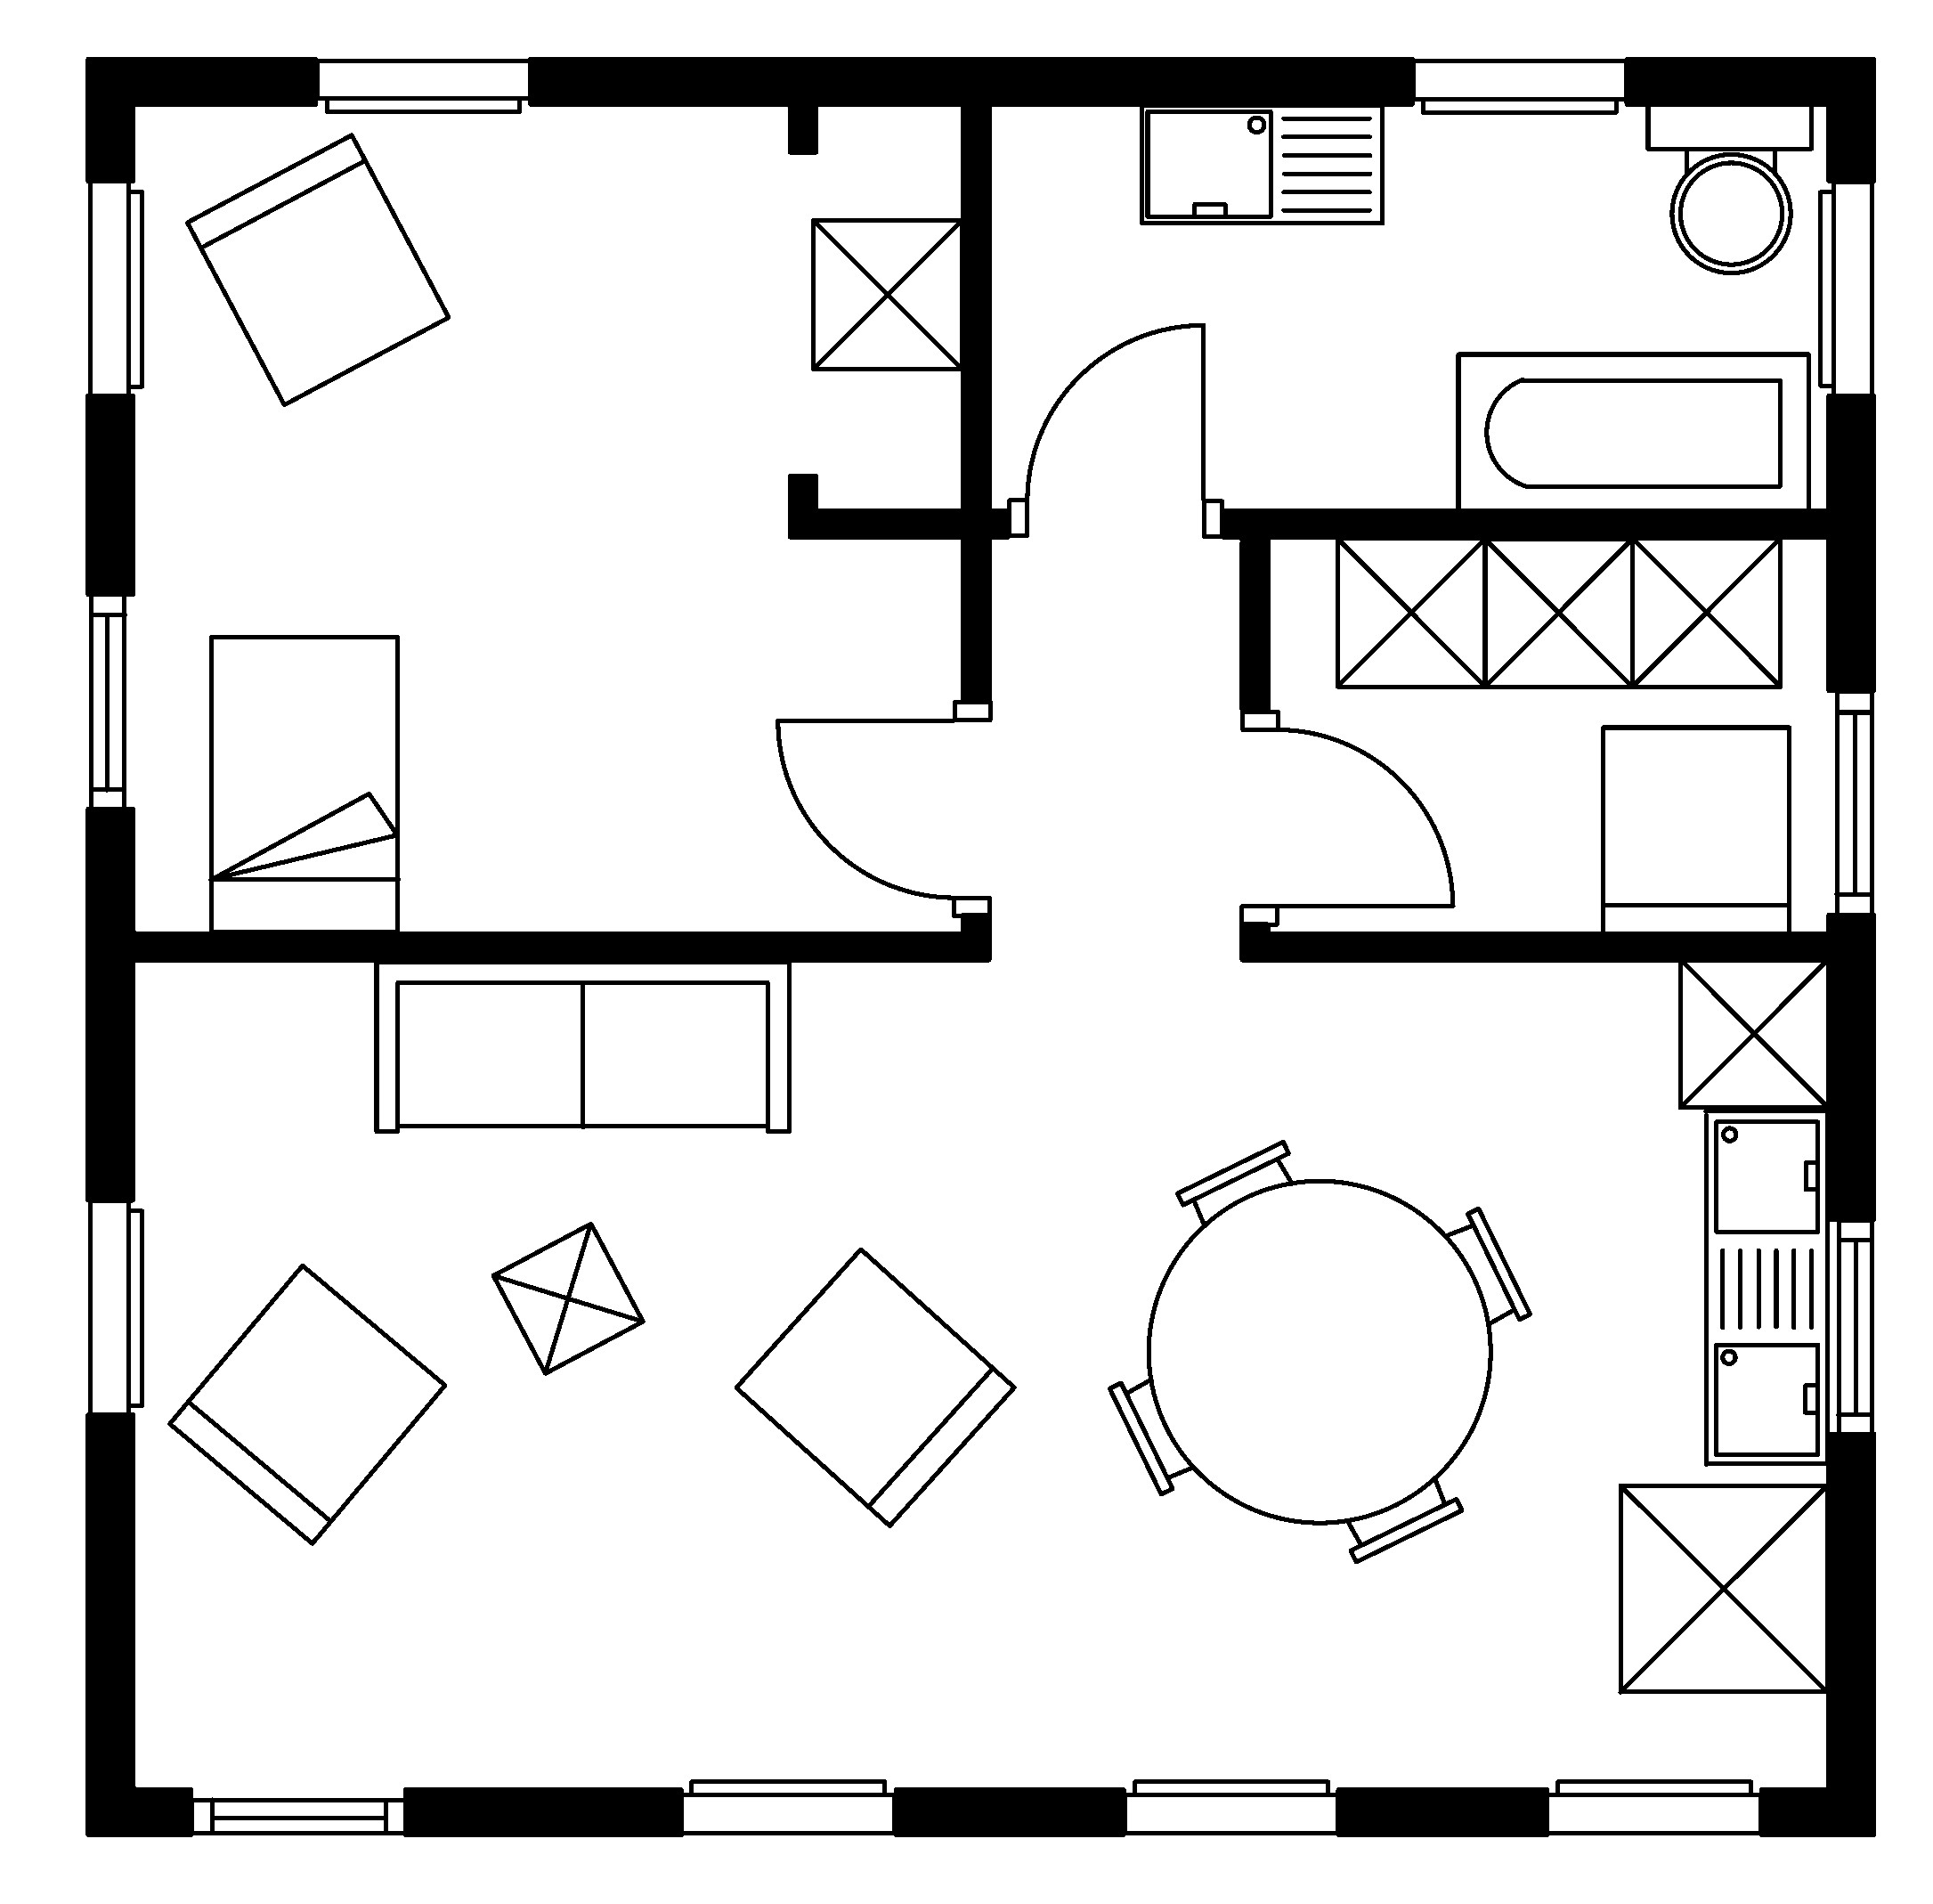bed: (207, 633, 401, 935)
coffee_table: (1616, 1482, 1830, 1695), (809, 216, 966, 371), (488, 1221, 645, 1376), (1480, 534, 1635, 689), (1628, 534, 1783, 689), (1333, 534, 1489, 689), (1675, 955, 1830, 1111)
large_sink: (1644, 101, 1814, 274)
large_sofa: (373, 959, 793, 1135)
round_table: (1105, 1139, 1532, 1564)
sink: (1136, 101, 1386, 227)
small_sofa: (732, 1245, 1016, 1529), (166, 1262, 448, 1547), (183, 131, 451, 408), (1598, 724, 1792, 936)
tub: (1454, 350, 1811, 513)
twin_sink: (1701, 1107, 1830, 1468)
